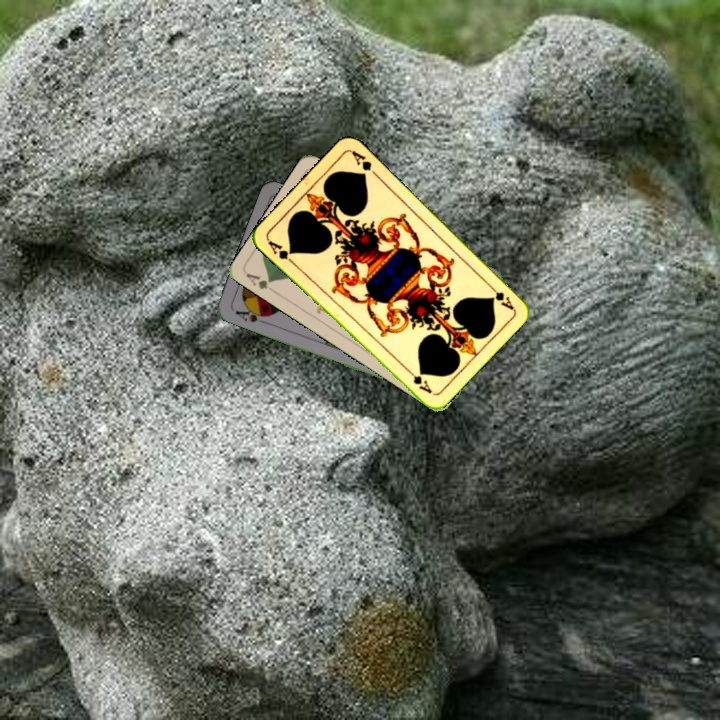GA: (483, 280, 517, 312), (264, 236, 298, 267), (241, 269, 279, 296)
SA: (231, 303, 271, 326)
